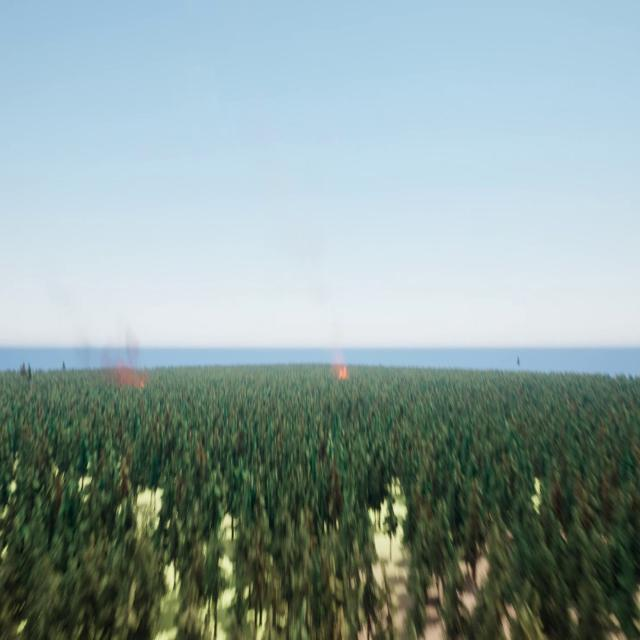smoke: (100, 334, 149, 393), (329, 344, 349, 384)
